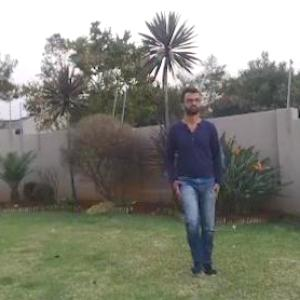follow: (162, 77, 232, 288)
